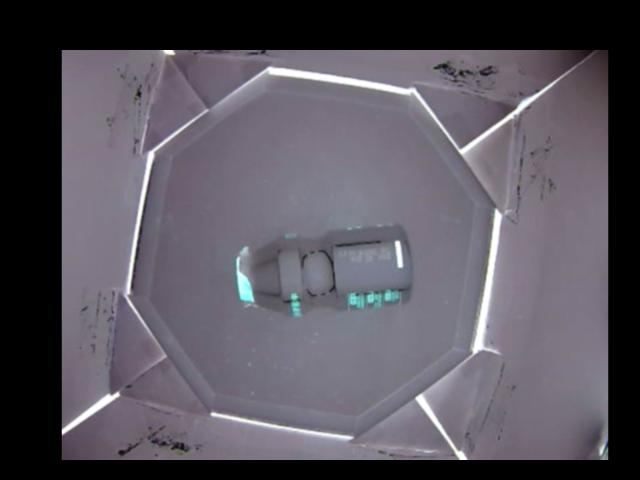Bottle: (234, 222, 416, 319)
